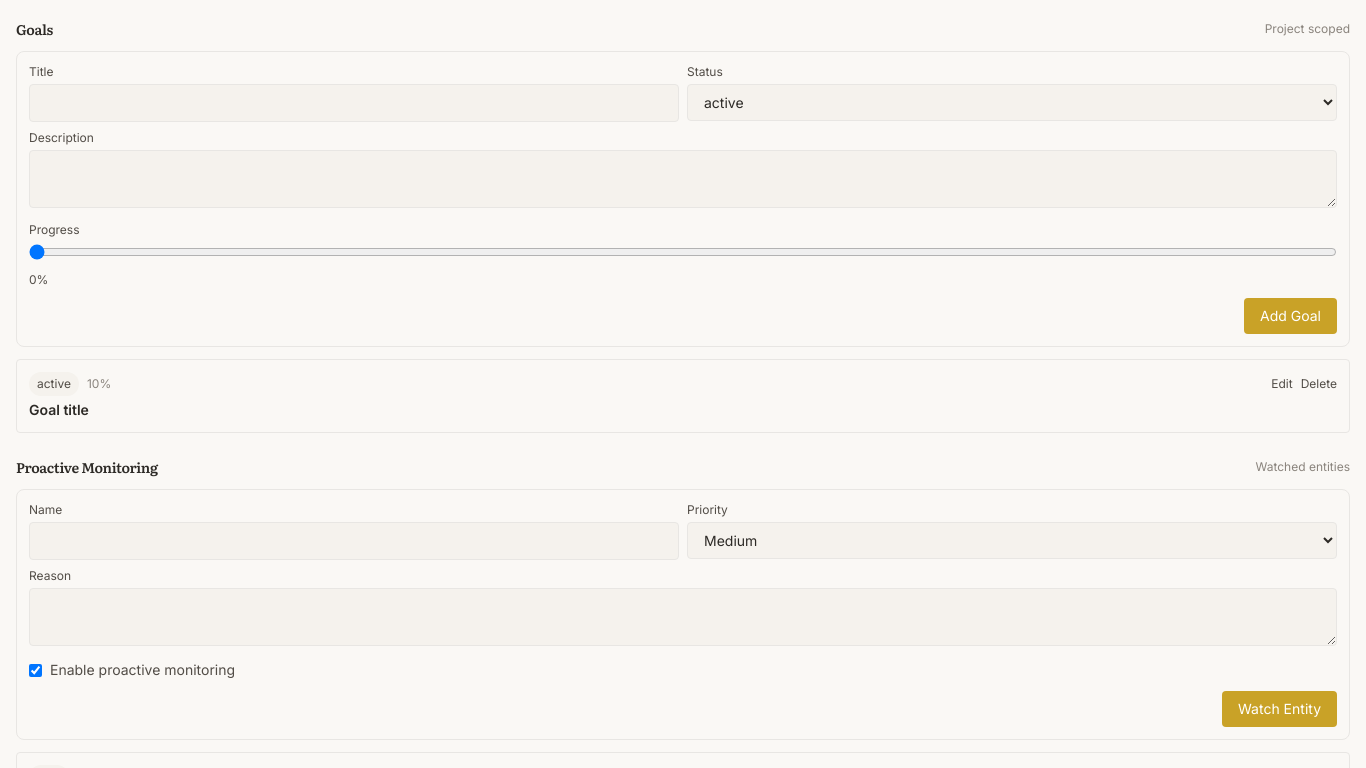
it: MemoryManager › starts editing an existing goal
This screenshot has width=1366, height=768.
(page scrolled)
Expected: the text "Goal title" is shown, x1=29 y1=401 x2=89 y2=418
Note: Find Edit button in goals section - it's the first button in the goal item
Click the button "Edit" at (1282, 384), box x1=1271 y1=376 x2=1293 y2=392
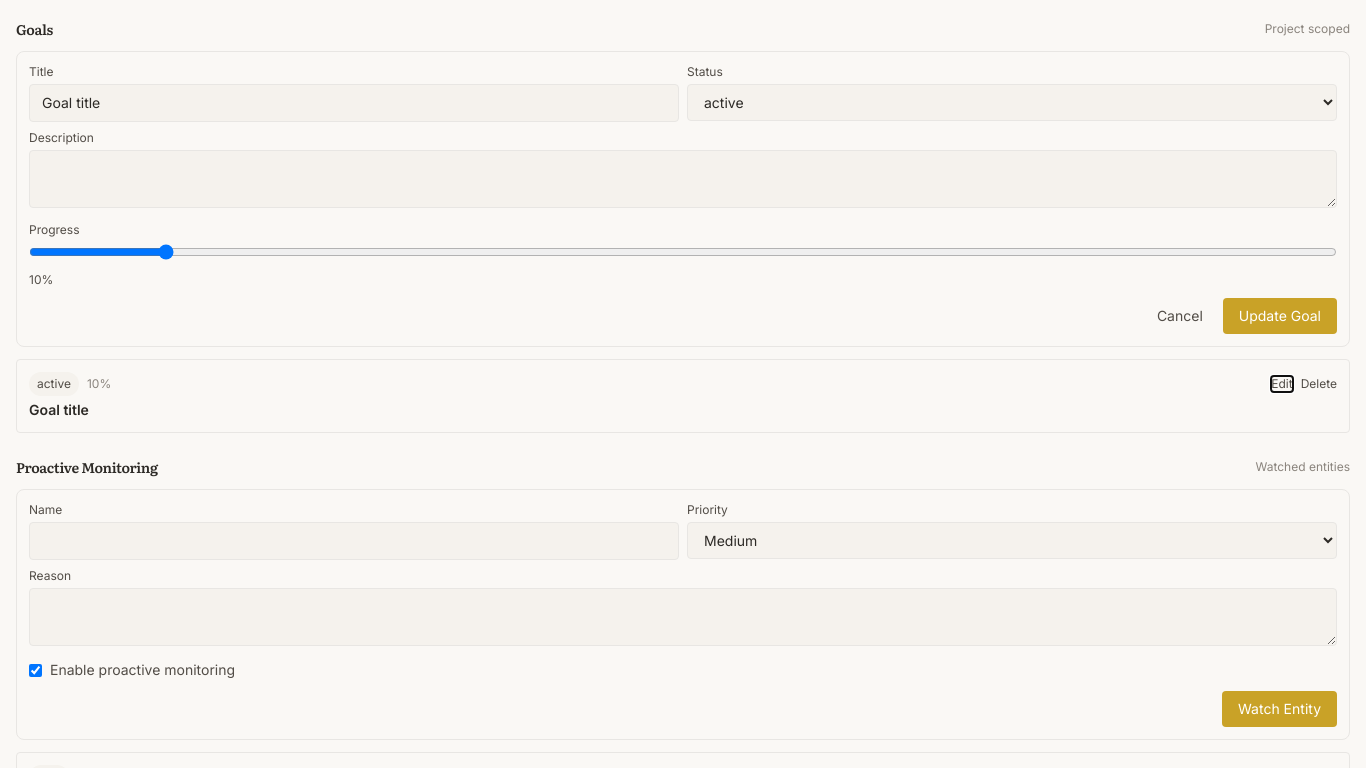
Now the field below "Status" holds "Goal title", box x1=29 y1=84 x2=679 y2=122
